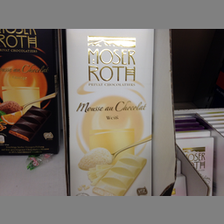chocolate: (65, 29, 153, 196), (1, 29, 61, 156), (175, 129, 214, 195)
